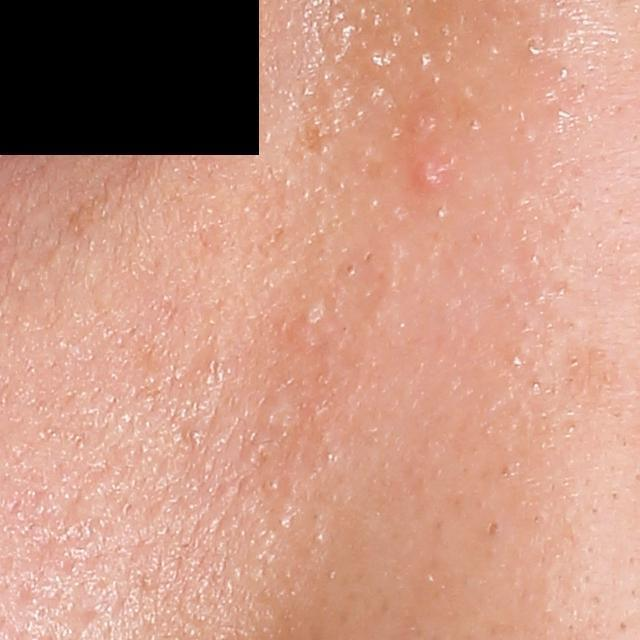comedo: (340, 257, 359, 280), (483, 517, 501, 538)
papule: (412, 160, 441, 194)
